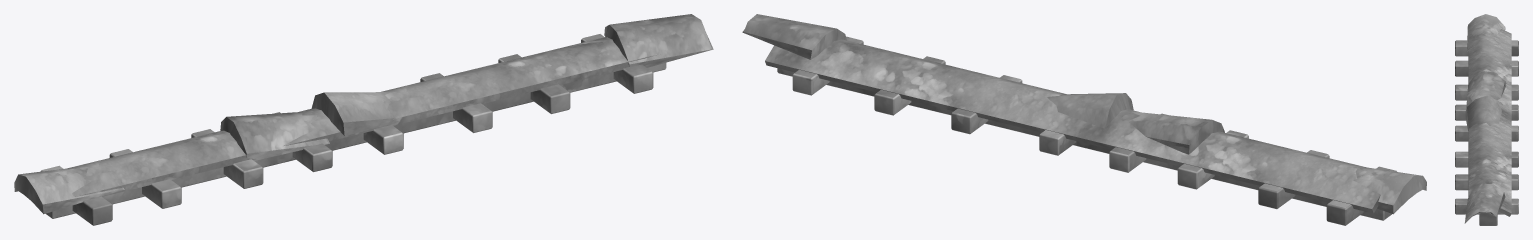
Rendered from SM_Rooftiles_01c.fbx.
3 renders of one model, left to right at view 1: azimuth 30°, elevation 25°; view 2: azimuth 150°, elevation 25°; view 3: azimuth 270°, elevation 25°, orthographic. The views are drawn at different scales.
Visible parts, largest first — view 1: SM_Rooftiles_01c_LOD0; view 2: SM_Rooftiles_01c_LOD0; view 3: SM_Rooftiles_01c_LOD0.
Part boxes in pixels (x1,y1,x2,y2): SM_Rooftiles_01c_LOD0: (14, 14, 713, 225); SM_Rooftiles_01c_LOD0: (742, 14, 1426, 225); SM_Rooftiles_01c_LOD0: (1455, 14, 1518, 225).
Size of the model in its own units: 329 by 45.02 by 25.38.
